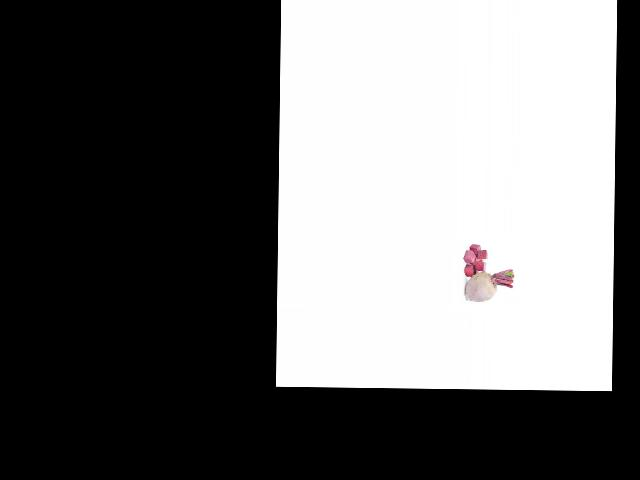beet: (464, 268, 513, 302)
